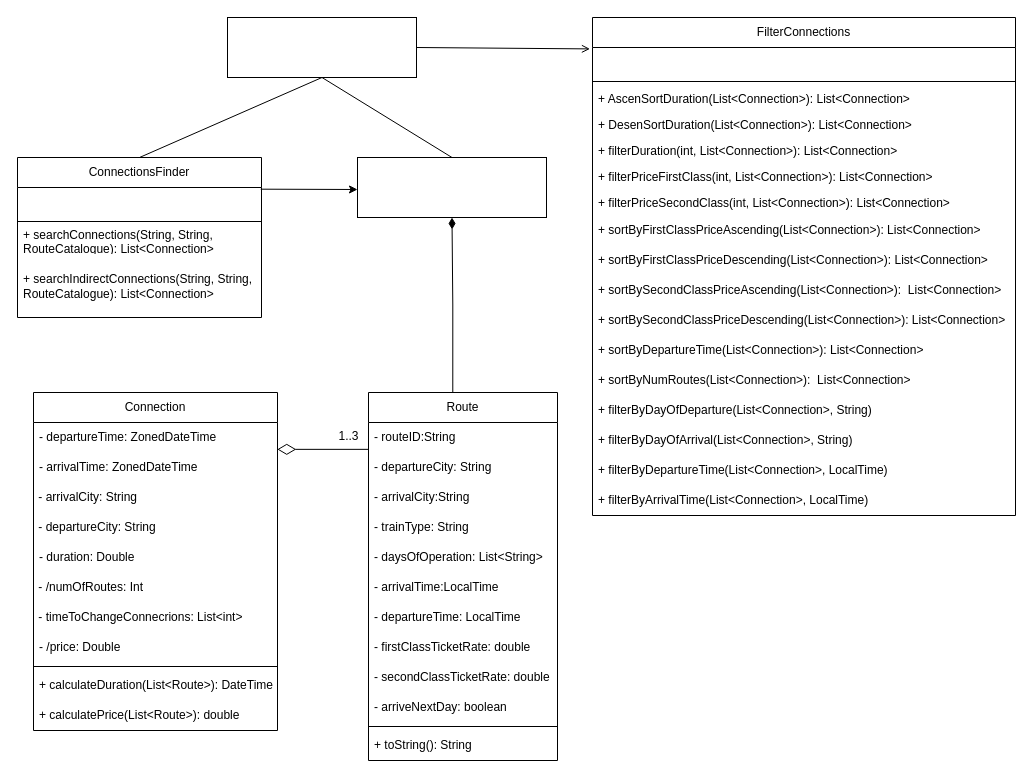
This 1033x778 diagram has some shape labels left out. The shapes that lost their labels are listed below. From the top down, each one's centre as x and y in pixels, then its label:
the point at 321,47: Driver
the point at 451,187: RouteCatalogue
